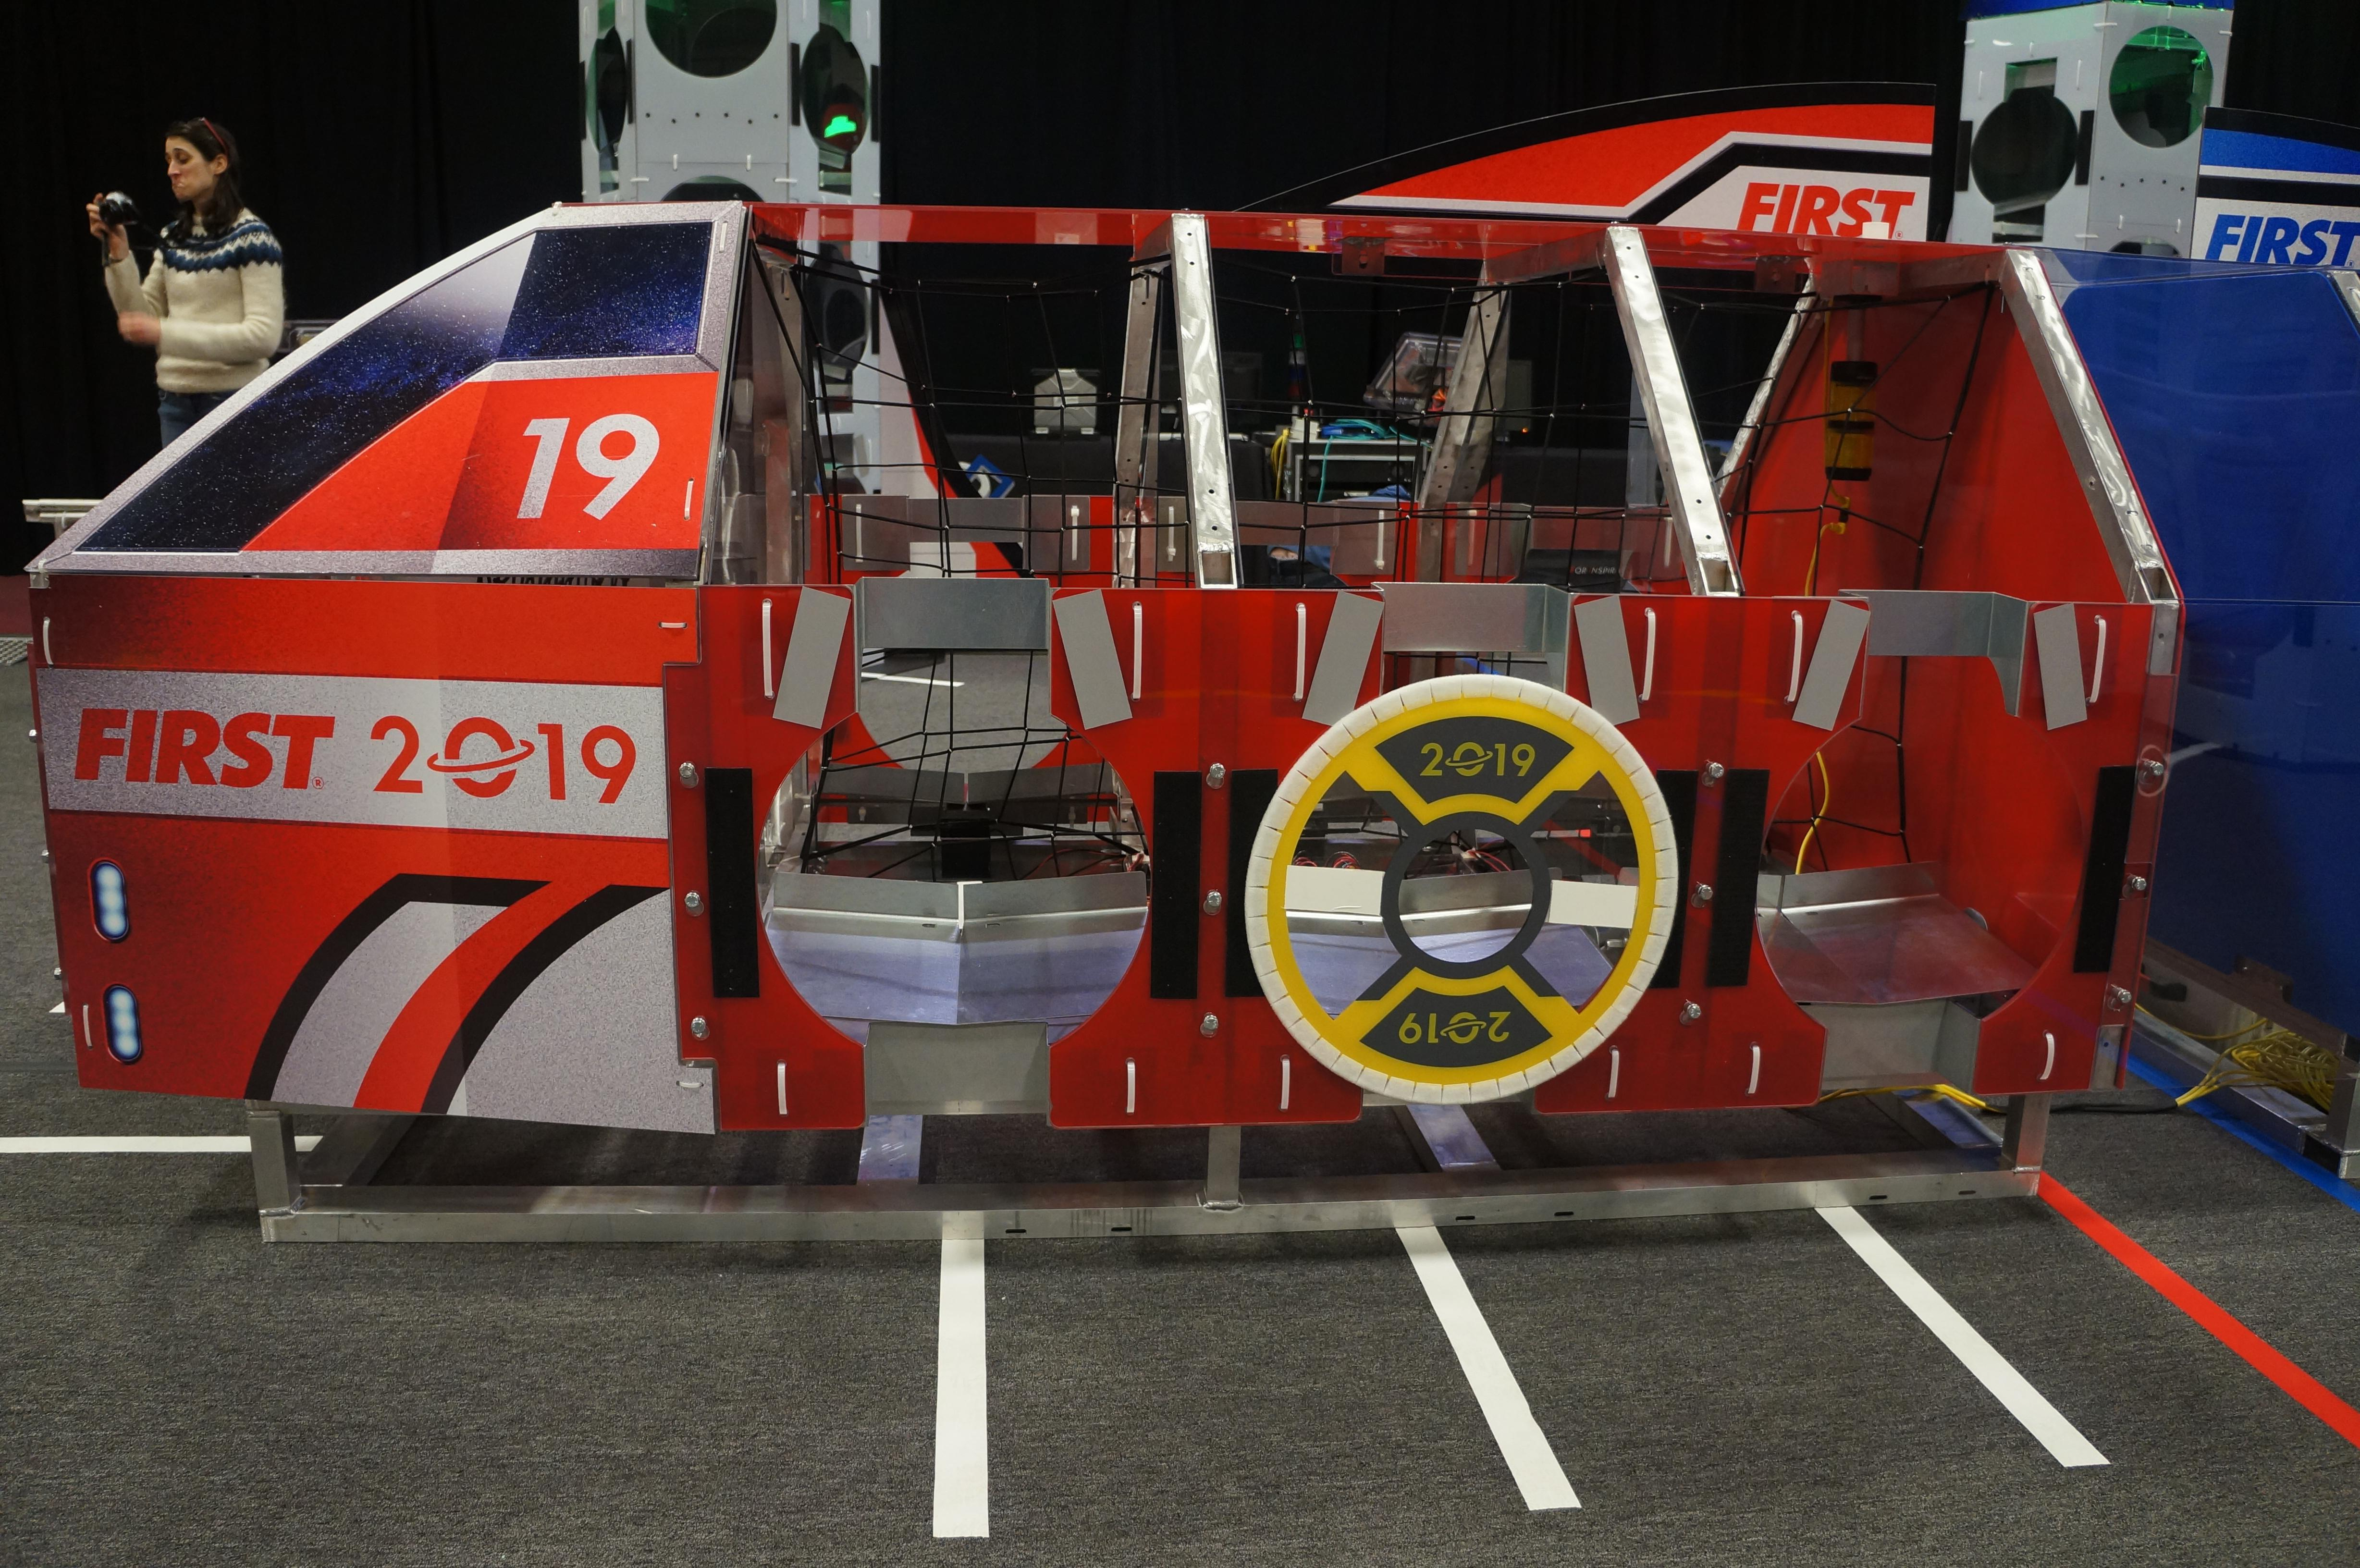Hatch: (1242, 674, 1679, 1106)
Tape: (770, 588, 854, 733), (1300, 590, 1384, 731), (1057, 588, 1134, 731), (1790, 600, 1870, 731), (1574, 595, 1644, 728), (2033, 598, 2084, 728)
